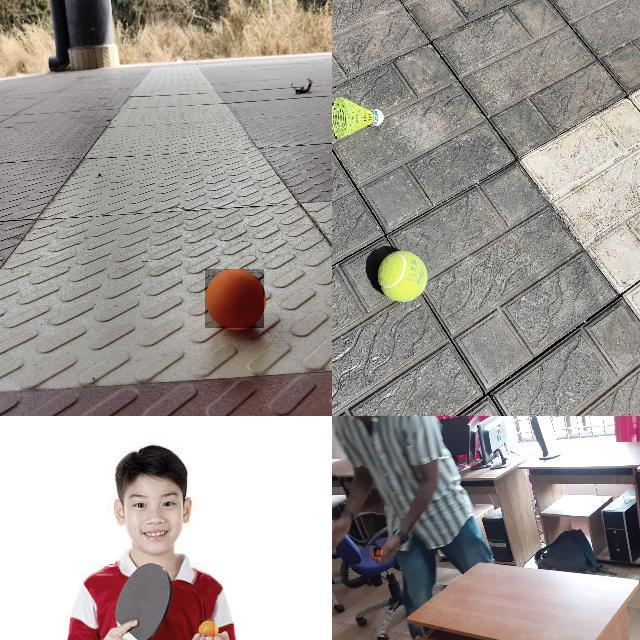ping-pong-ball: (205, 269, 265, 329), (200, 620, 216, 638), (374, 548, 382, 558)
